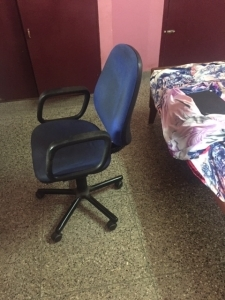chair: (30, 43, 143, 243)
